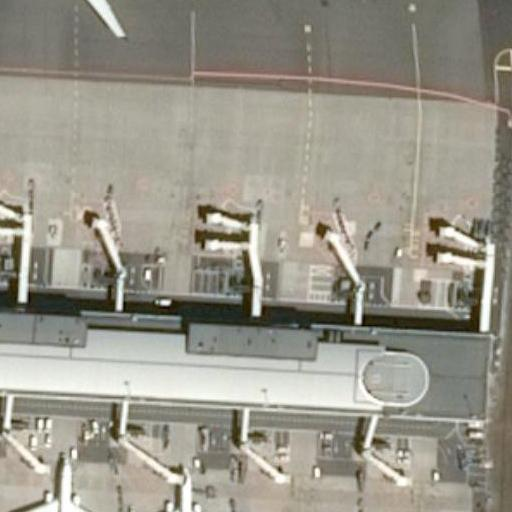Aircraft: (0, 0, 191, 35), (17, 456, 108, 512), (138, 468, 238, 512)
